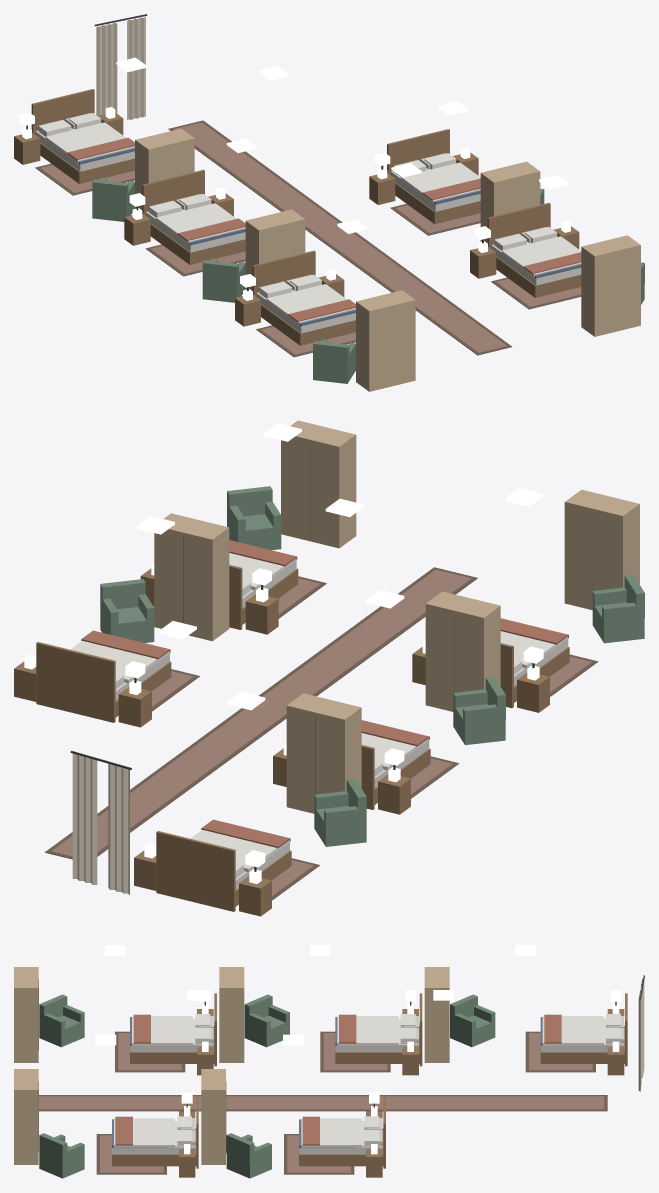
File: fine-s2.glb
The picture shows the model from 3 angles, top to bottom: view 1: azimuth 30°, elevation 25°; view 2: azimuth 150°, elevation 25°; view 3: azimuth 270°, elevation 25°; orthographic projection. The views are drawn at different scales.
Visible parts, largest first — view 1: soft-s2, dresser.006, dresser.009, bed-frame.008, bed-frame.007, bed-frame.009, bed-frame.006, bed-frame.005, dresser.008, dresser.005, dresser.007, lounge-chair.009 (+7 smaller); view 2: soft-s2, dresser.005, dresser.006, dresser.007, dresser.009, dresser.008, bed-frame.005, bed-frame.007, lounge-chair.005, lounge-chair.006, lounge-chair.007, lounge-chair.008 (+11 smaller); view 3: soft-s2, dresser.008, dresser.005, dresser.006, dresser.009, dresser.007, lounge-chair.009, lounge-chair.007, lounge-chair.008, bed-frame.008, bed-frame.005, bed-frame.006 (+9 smaller).
Boxes of the visible parts, x1,y1,x2,y2 form: soft-s2: [19, 14, 581, 357]; dresser.006: [581, 235, 640, 336]; dresser.009: [356, 290, 415, 391]; bed-frame.008: [142, 169, 245, 264]; bed-frame.007: [31, 89, 134, 183]; bed-frame.009: [252, 250, 355, 345]; bed-frame.006: [487, 203, 581, 297]; bed-frame.005: [387, 129, 480, 224]; dresser.008: [245, 209, 305, 290]; dresser.005: [480, 161, 540, 242]; dresser.007: [135, 128, 194, 209]; lounge-chair.009: [313, 339, 355, 383]; soft-s2: [45, 540, 598, 900]; dresser.005: [154, 513, 229, 641]; dresser.006: [281, 420, 356, 548]; dresser.007: [286, 693, 361, 813]; dresser.009: [564, 489, 639, 610]; dresser.008: [425, 591, 500, 711]; bed-frame.005: [36, 642, 171, 722]; bed-frame.007: [156, 831, 291, 911]; lounge-chair.005: [100, 579, 154, 642]; lounge-chair.006: [227, 486, 281, 550]; lounge-chair.007: [314, 778, 366, 846]; lounge-chair.008: [453, 676, 505, 745]; soft-s2: [39, 975, 644, 1174]; dresser.008: [219, 967, 244, 1062]; dresser.005: [201, 1069, 226, 1164]; dresser.006: [14, 1069, 38, 1164]; dresser.009: [14, 967, 38, 1062]; dresser.007: [424, 967, 449, 1062]; lounge-chair.009: [39, 994, 84, 1047]; lounge-chair.007: [450, 994, 495, 1047]; lounge-chair.008: [244, 994, 289, 1047]; bed-frame.008: [335, 993, 422, 1066]; bed-frame.005: [299, 1095, 385, 1168]; bed-frame.006: [112, 1095, 198, 1168].
Bounding box in the file's own units: 8.61 × 2.92 × 15.25.
